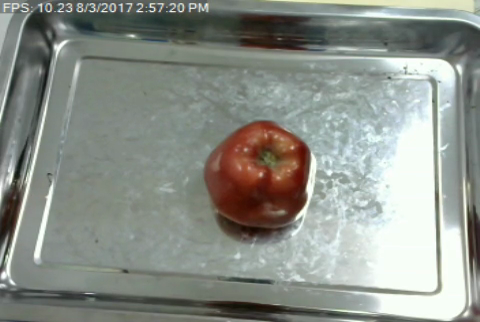Apple: (200, 118, 320, 231)
